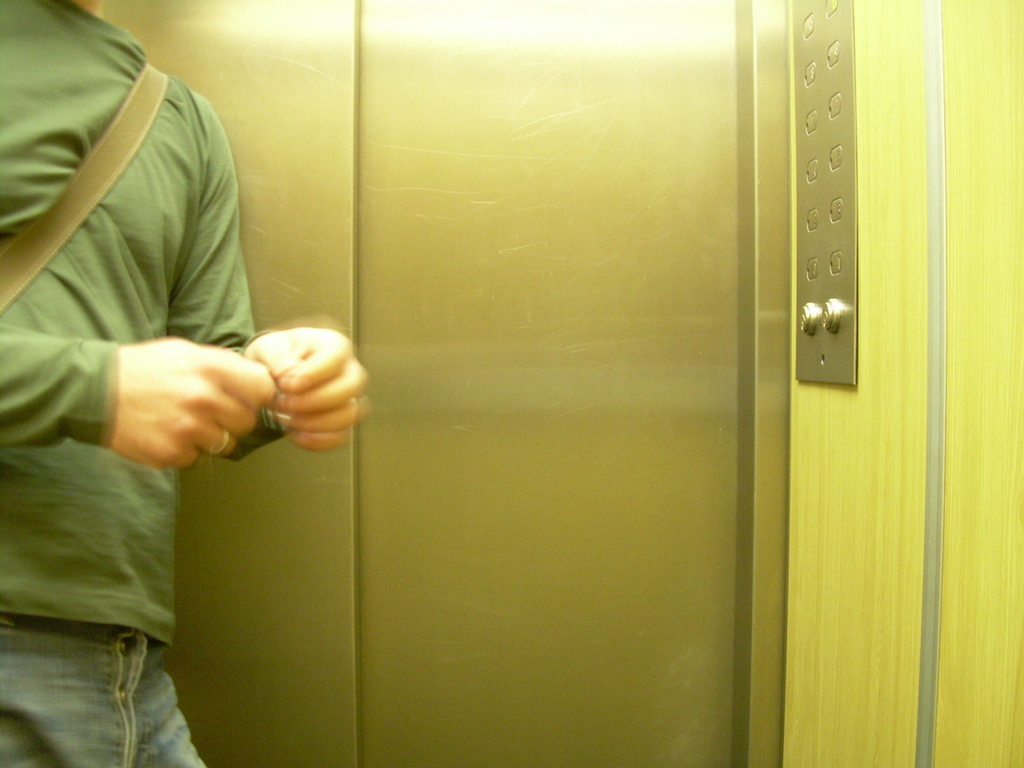Human_hand: (109, 328, 282, 472)
